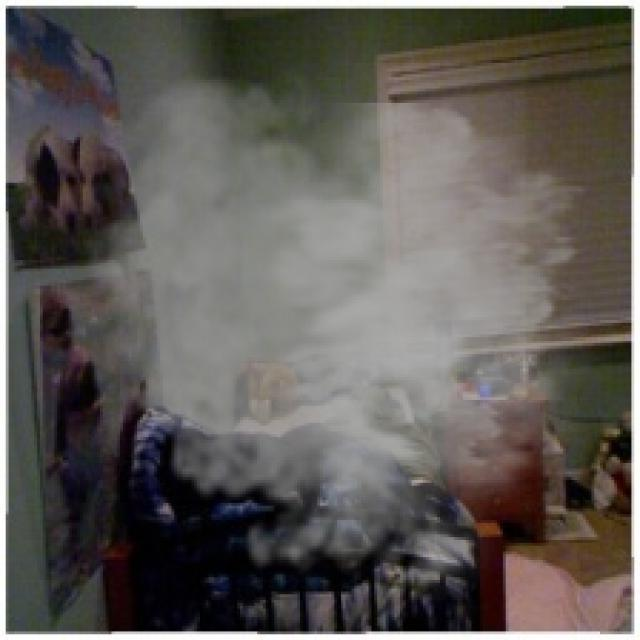smoke: (68, 63, 623, 606)
